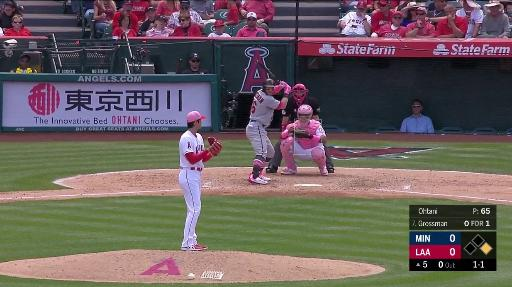pitcher: (179, 111, 223, 253)
